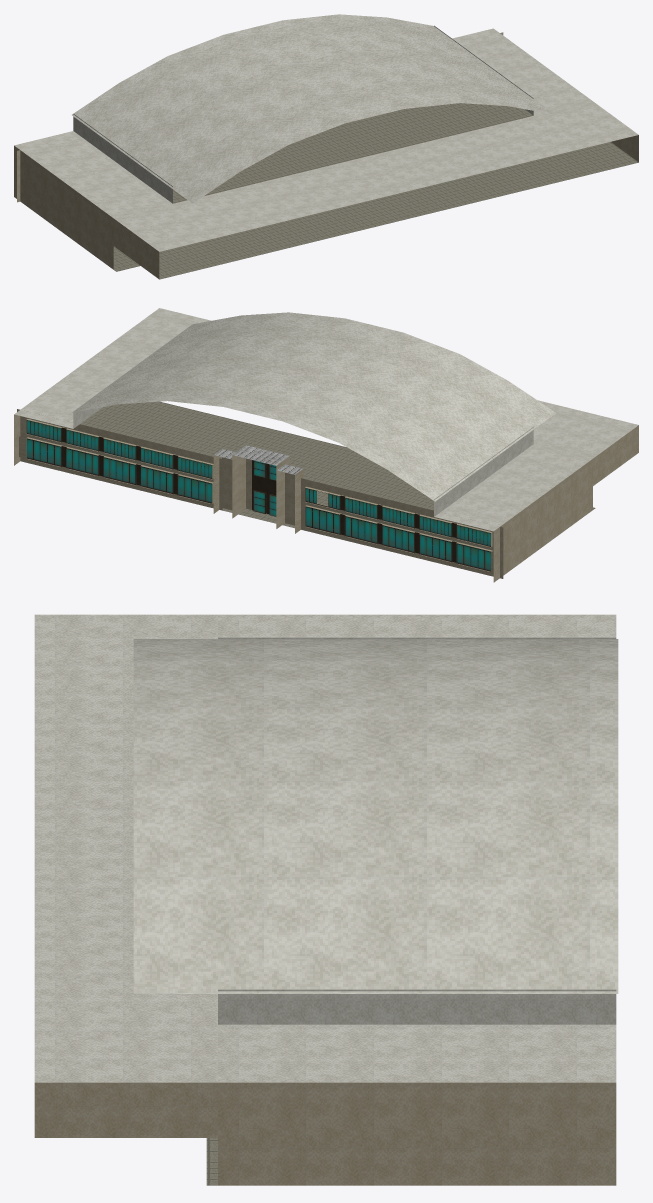
File: AirportIn.fbx
3 views of the same model, one above another, from view 1: azimuth 30°, elevation 25°; view 2: azimuth 150°, elevation 25°; view 3: azimuth 270°, elevation 25° (orthographic). The views are drawn at different scales.
Visible parts, largest first — view 1: AirportIn; view 2: AirportIn; view 3: AirportIn.
Part boxes in pixels (<box>): AirportIn: <box>14,14,638,279</box>; AirportIn: <box>14,308,638,582</box>; AirportIn: <box>34,614,618,1185</box>.
Size of the model in its own units: 2461 by 535 by 1280.
Materials: 6 (6 with a texture image).
